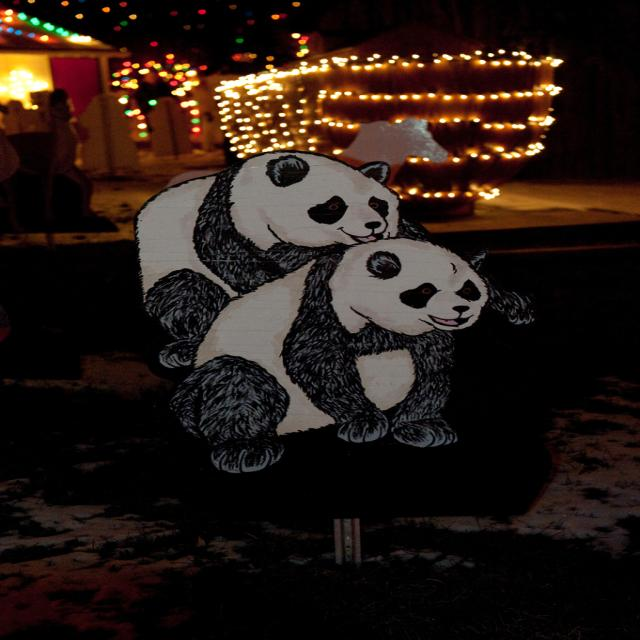panda: (137, 145, 533, 364), (171, 234, 493, 474)
